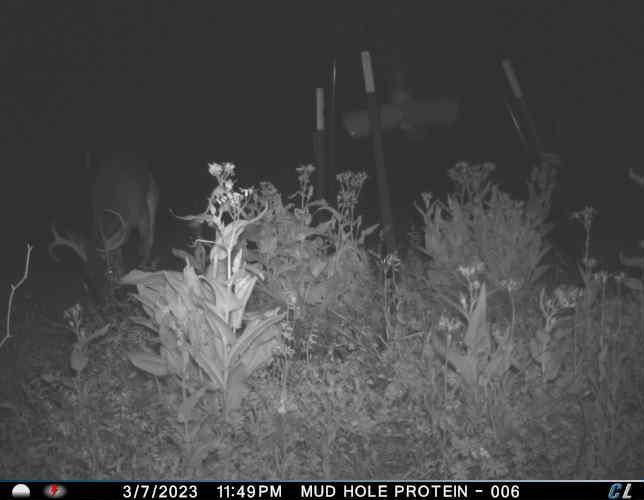Deer: (43, 144, 163, 307)
